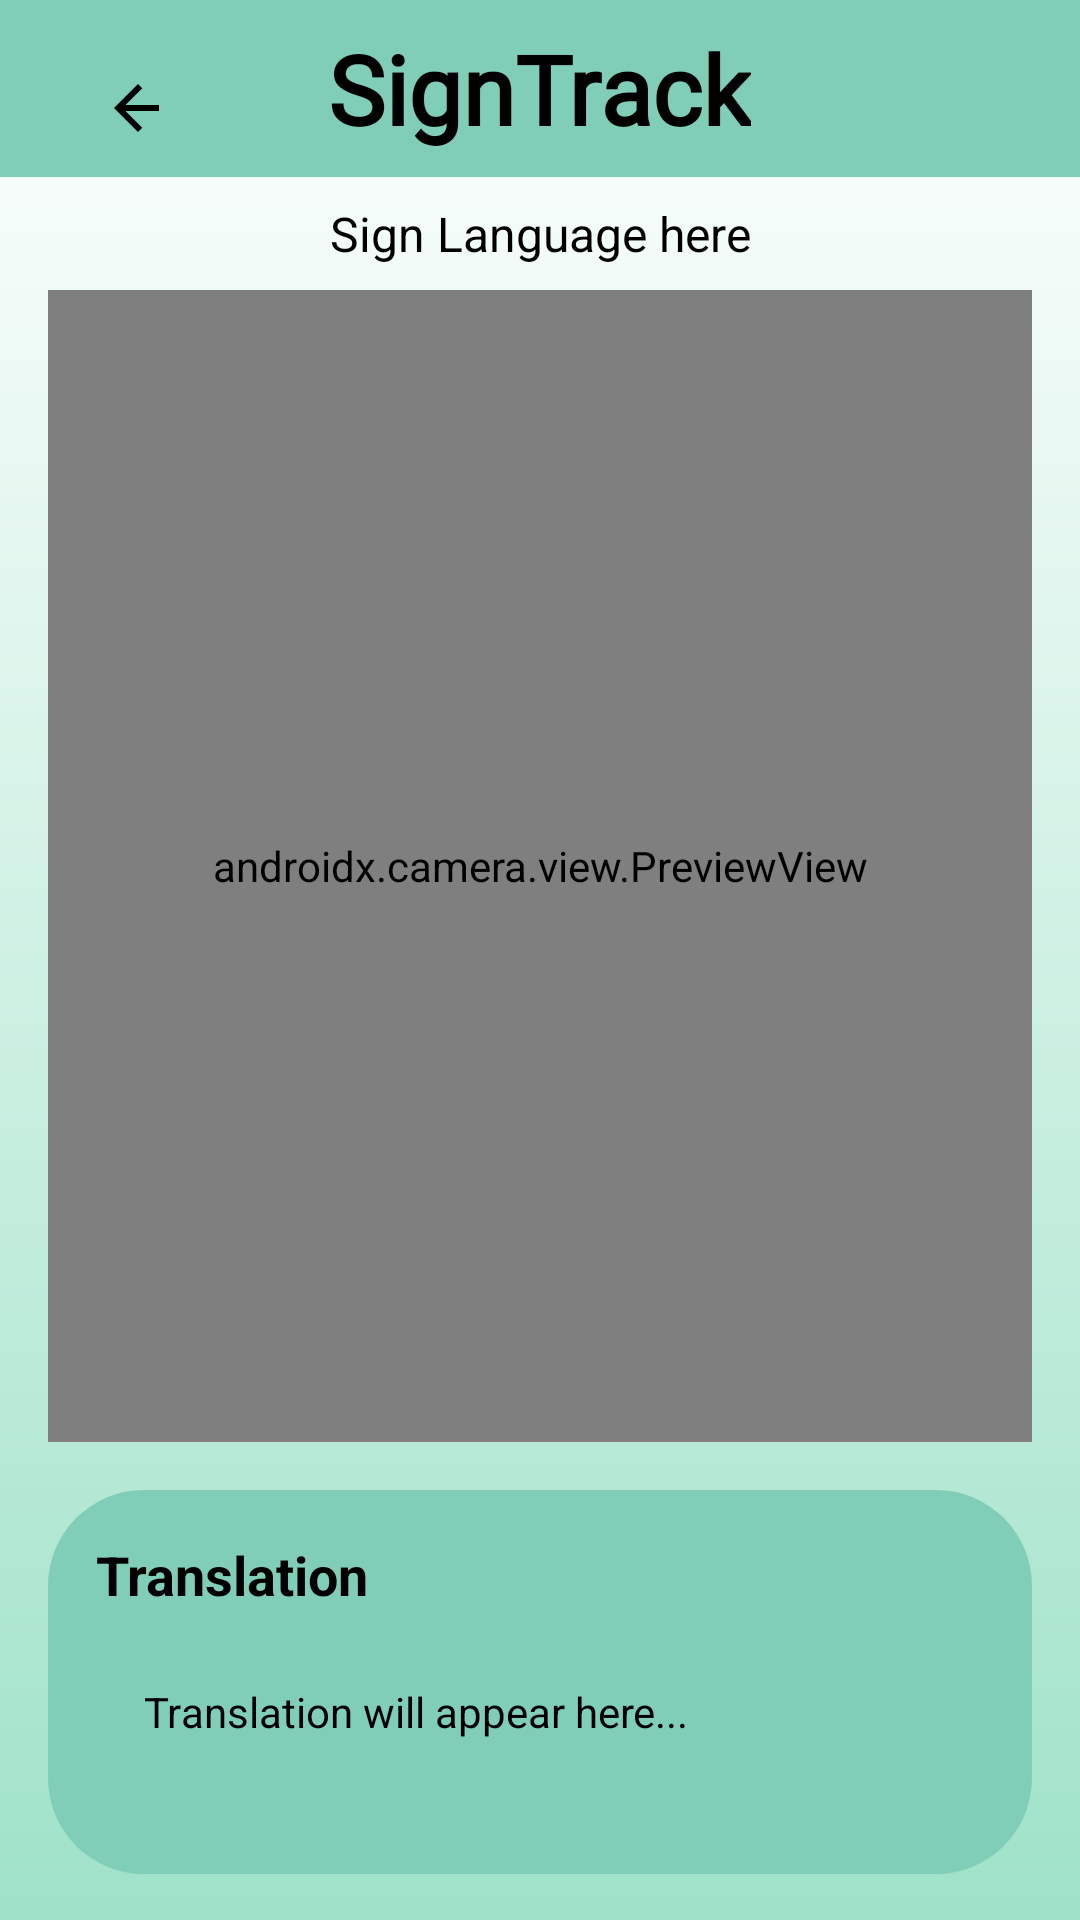

Where to tap for icons on this 1080×1920 app screen, as point (x, y):
Back button: point (136, 108)
